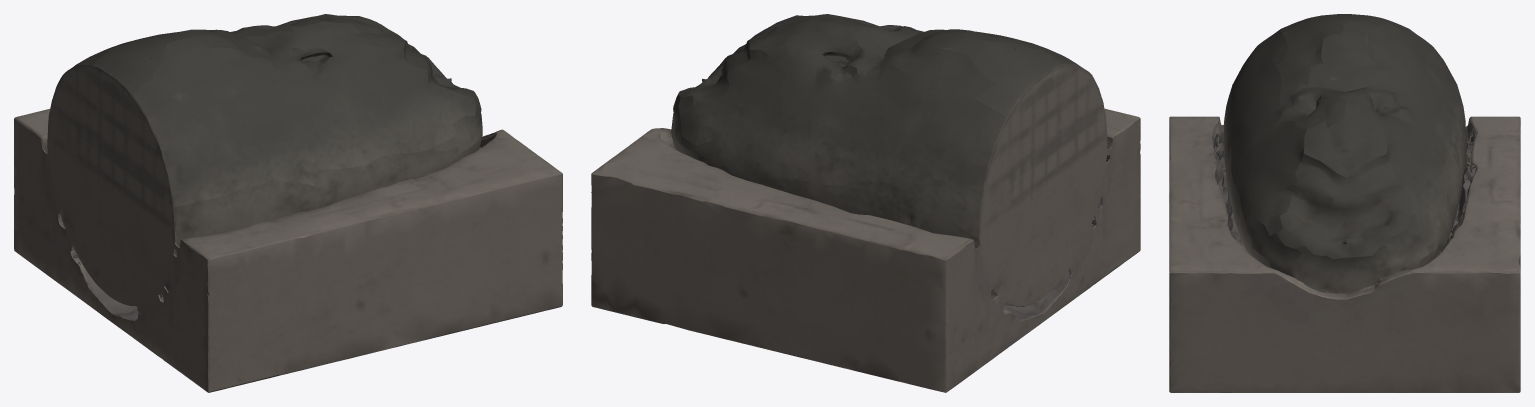
3 renders of one model, left to right at view 1: azimuth 30°, elevation 25°; view 2: azimuth 150°, elevation 25°; view 3: azimuth 270°, elevation 25°, orthographic. The views are drawn at different scales.
Visible parts, largest first — view 1: world; view 2: world; view 3: world.
Boxes of the visible parts, x1,y1,x2,y2 form: world: (14, 14, 562, 392); world: (591, 14, 1140, 392); world: (1169, 14, 1520, 392).
Size of the model in its own units: 1.2 by 0.8597 by 1.14.
Materials: 1 (1 with a texture image).
